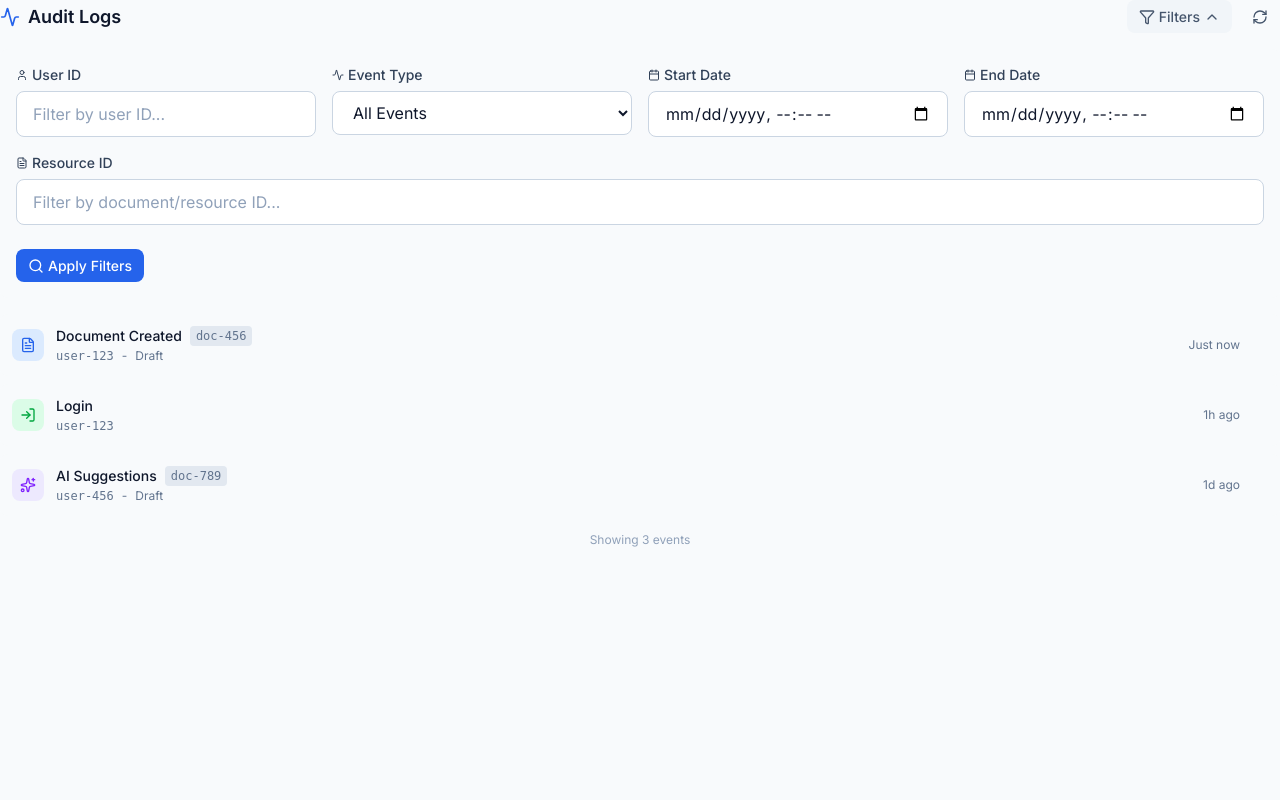
Test case: AuditLogViewer › Event Detail Modal › should close modal when close button is clicked
Step 1. Click the element showing "Document Created doc-456 user-123 - draft Just now" → x=640, y=345, box [0,314,1279,376]
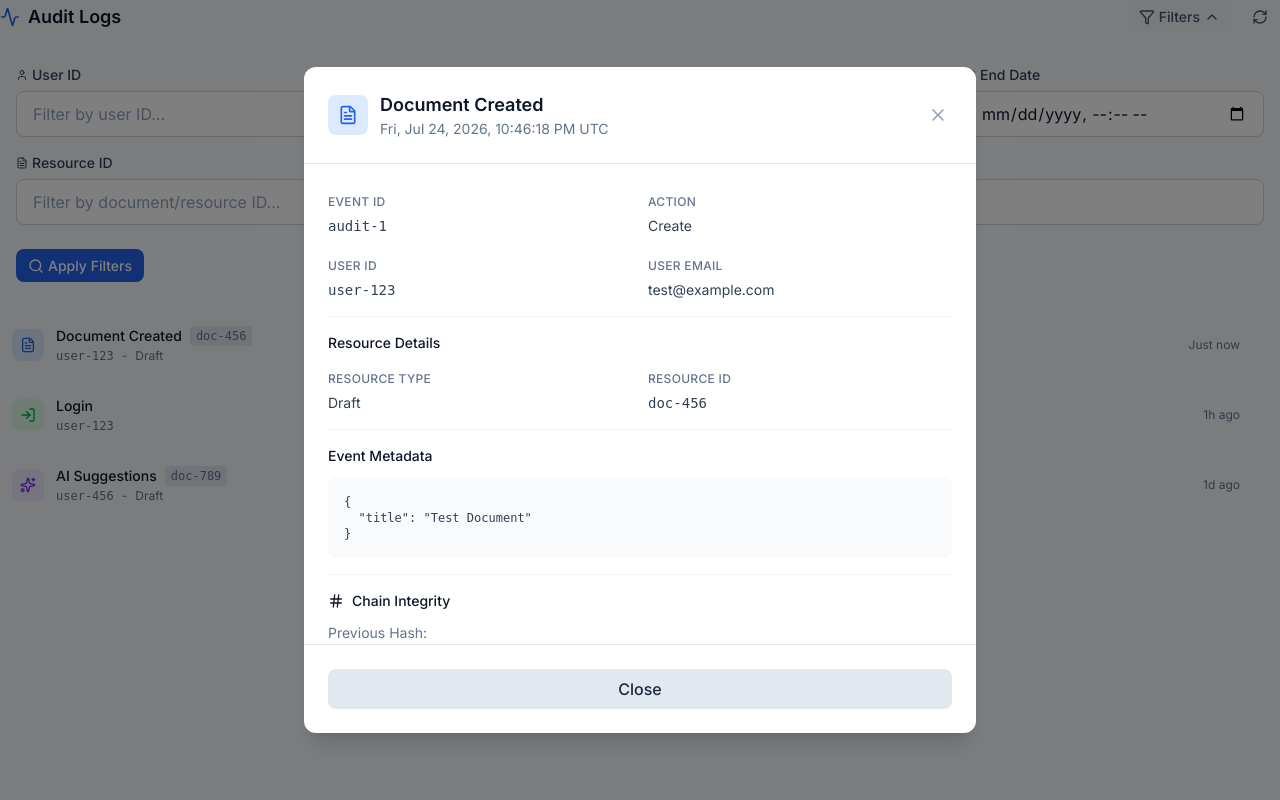
Expected: the text "Event ID" is shown, [328,194,385,209]
Step 2. Click the button "Close" → x=640, y=689, box [328,669,952,709]
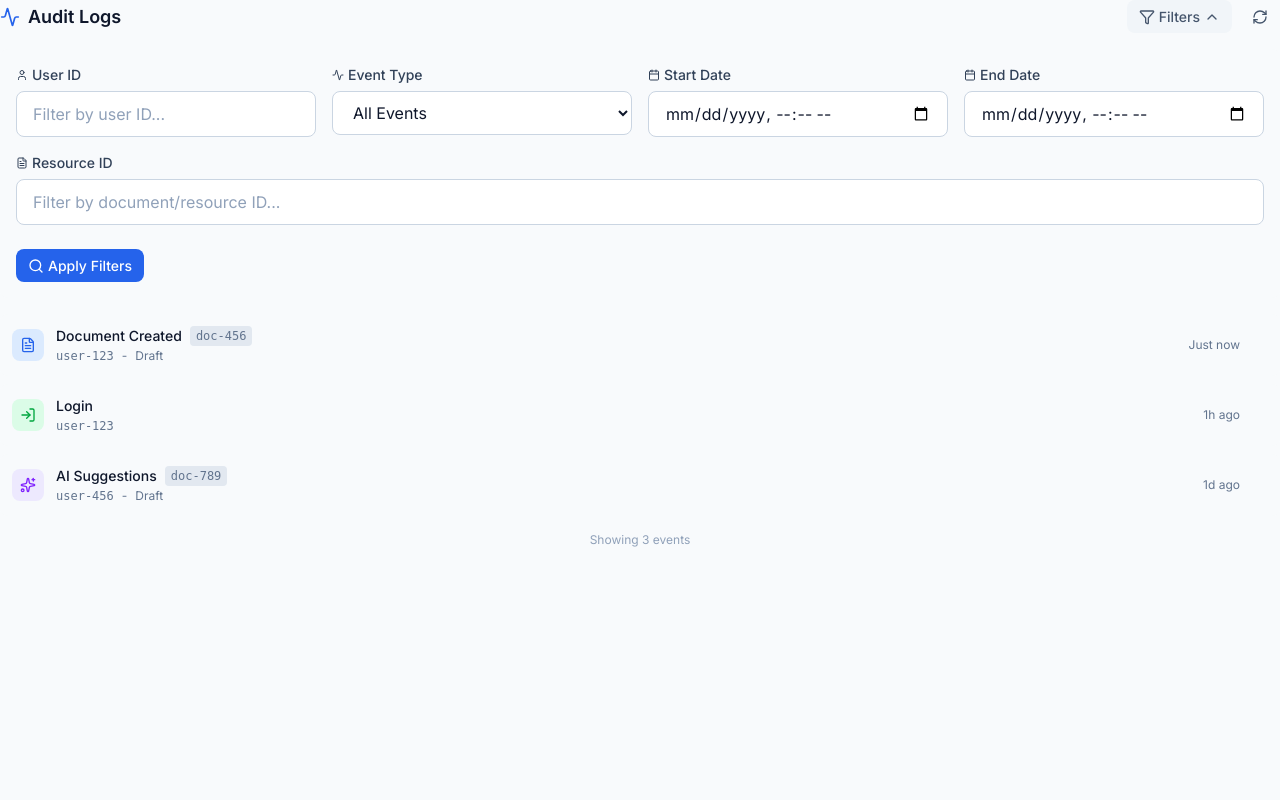
Expected: the text "Event ID" is gone
